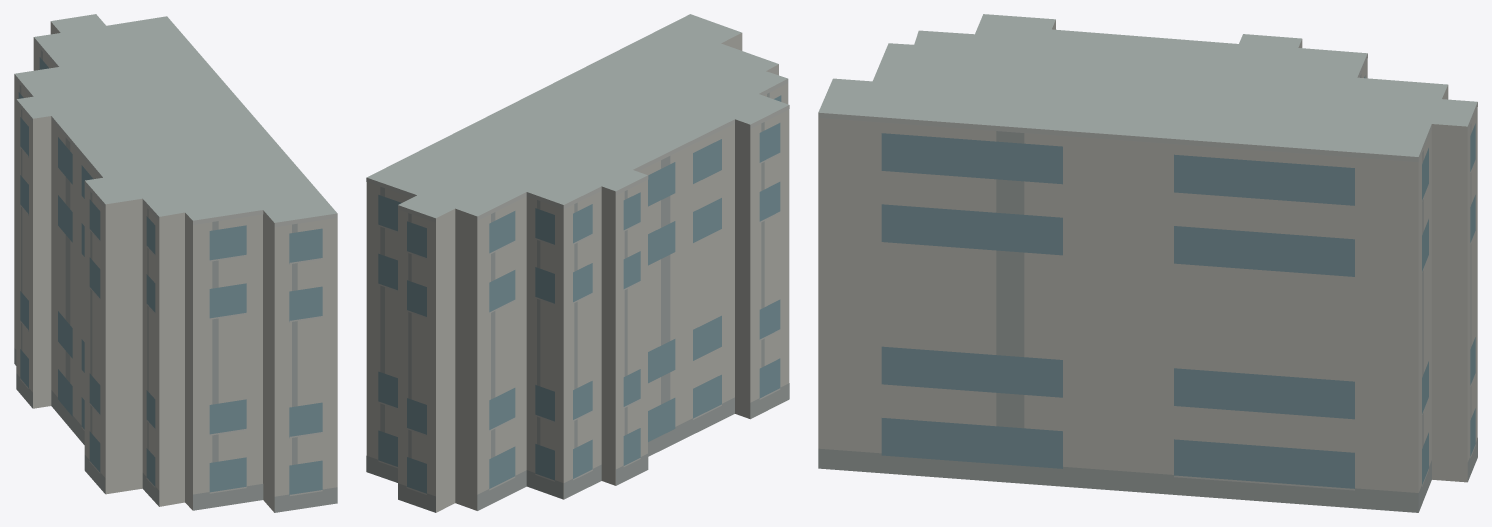
File: survey-upis-32924097.glb
3 renders of one model, left to right at view 1: azimuth 30°, elevation 25°; view 2: azimuth 150°, elevation 25°; view 3: azimuth 270°, elevation 25°, orthographic. The views are drawn at different scales.
Visible parts, largest first — view 1: survey-upis-32924097.tmp; view 2: survey-upis-32924097.tmp; view 3: survey-upis-32924097.tmp.
Part boxes in pixels (x1,y1,x2,y2): survey-upis-32924097.tmp: [14, 14, 337, 512]; survey-upis-32924097.tmp: [366, 14, 789, 512]; survey-upis-32924097.tmp: [818, 14, 1477, 512].
Size of the model in its own units: 14.41 by 16.7 by 28.06.
